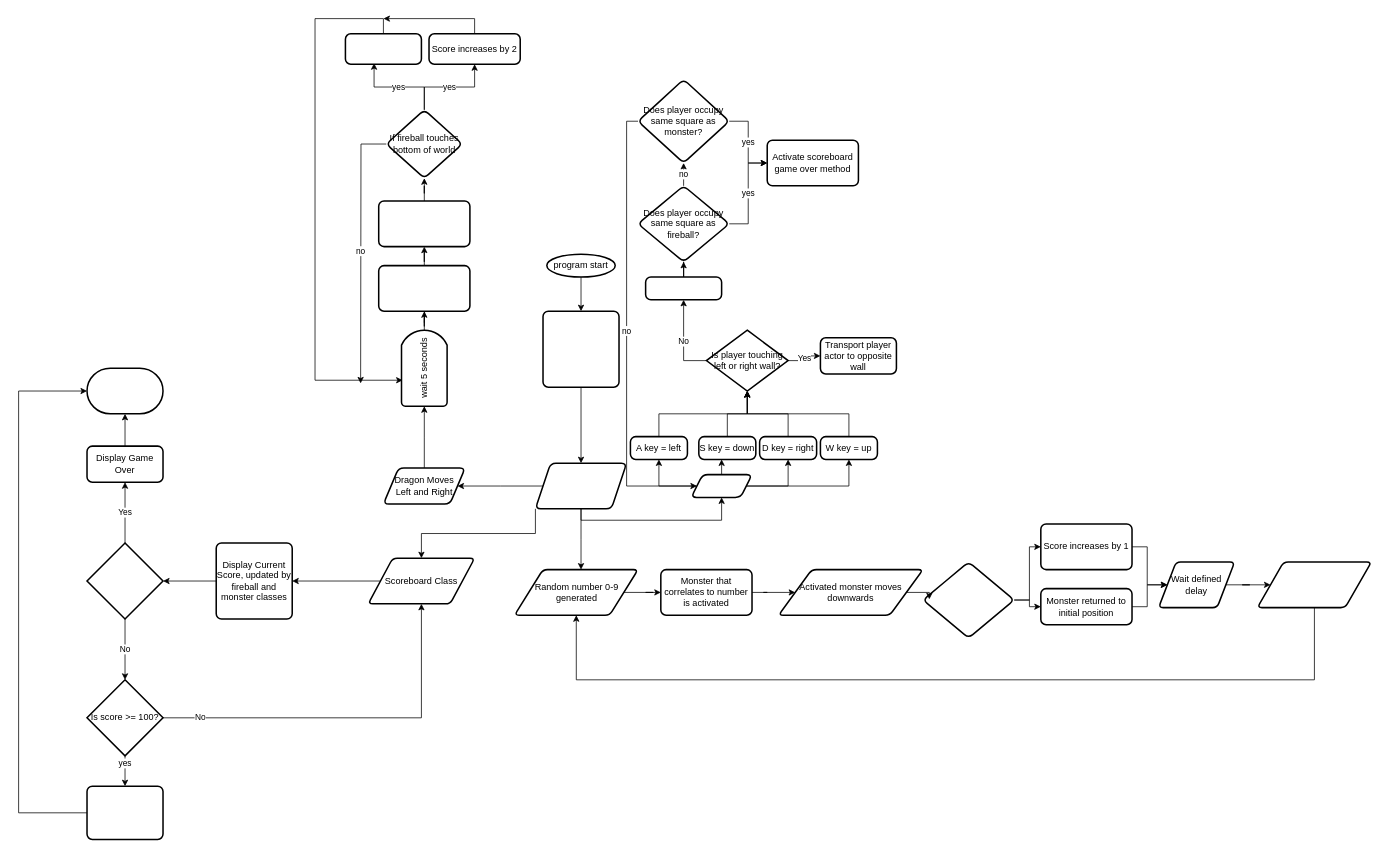
This 1385x853 diagram has some shape labels left out. The shapes that lost their labels are listed below. From the top down, each one's centre as x and y in pixels, then its label:
At (x=383, y=49): "Fireball gets removed".
At (x=424, y=223): "Fireball Moves Downward".
At (x=424, y=288): "Fireball created at dragon's position".
At (x=683, y=288): "Move player actor".
At (x=580, y=349): "Initialize actors: Player Dragon Fireball Monsters 1-10 Scoreboard".
At (x=124, y=390): "End Game".
At (x=580, y=485): "User presses start button".
At (x=721, y=485): "User moves".
At (x=124, y=580): "Is game over method called?".
At (x=968, y=599): "If monster touches bottom of screen".
At (x=1314, y=584): "decrease delay length".
At (x=124, y=812): "Display Victory Message".
